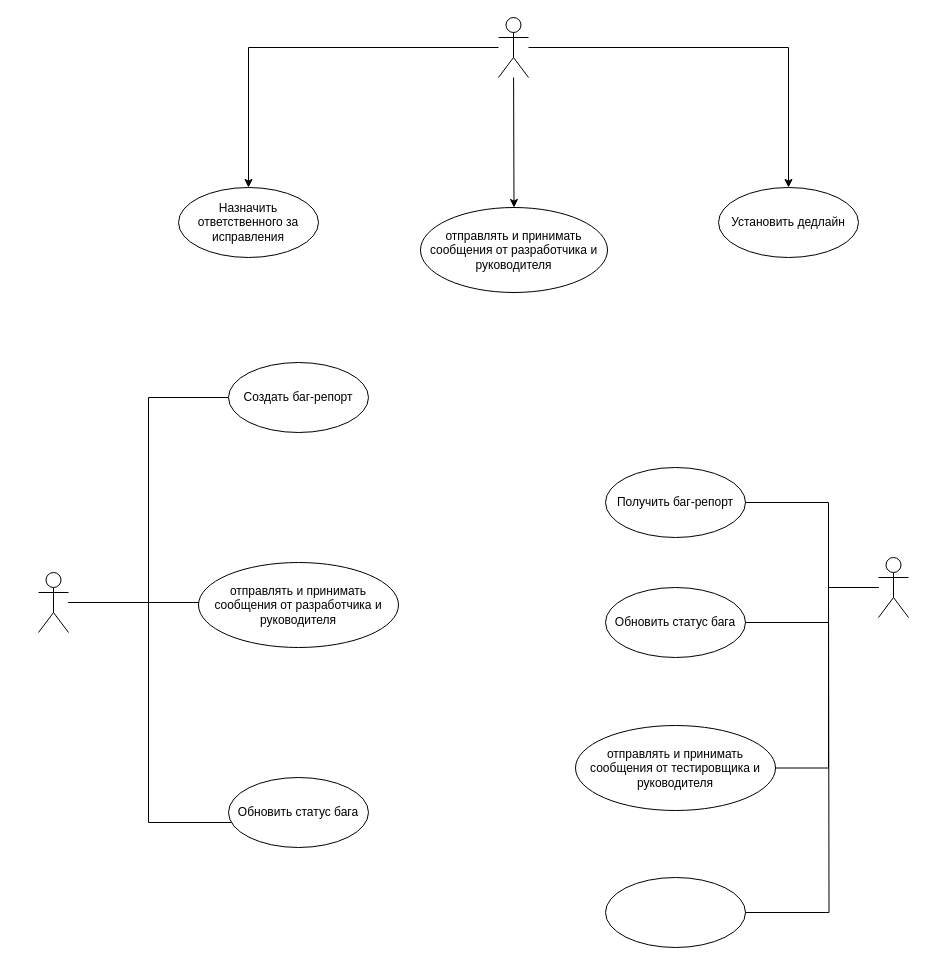
The diagram is 946 pixels wide and 965 high, and some of its shapes have lost their labels. The centre of each missing label's shape, as x and y in pixels:
Зафиксировать исправления: the point at 675,912
Разработчик: the point at 893,587
Руководитель проекта: the point at 513,47
Тестировщик: the point at 53,602
